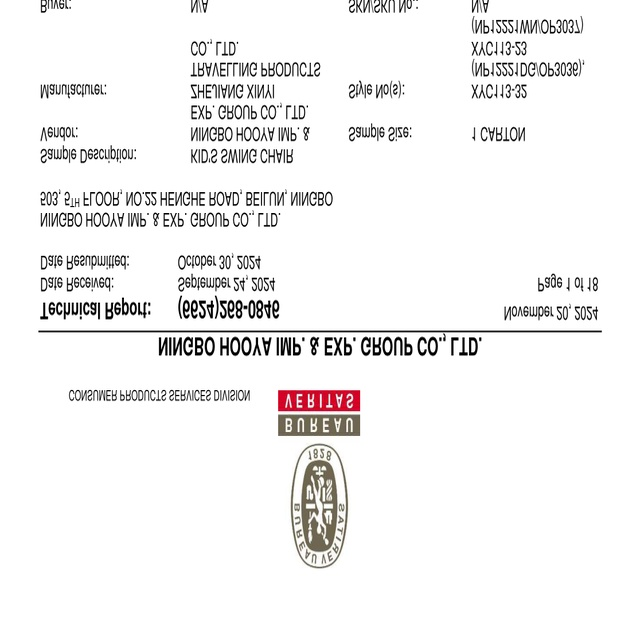bureau_veritas: (273, 387, 368, 570)
